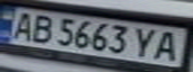3: (109, 22, 133, 56)
5: (51, 16, 78, 47)
6: (90, 20, 112, 53), (72, 19, 93, 51)
A: (151, 28, 187, 62), (6, 10, 39, 40)
B: (24, 12, 57, 44)
Y: (130, 25, 163, 60)
